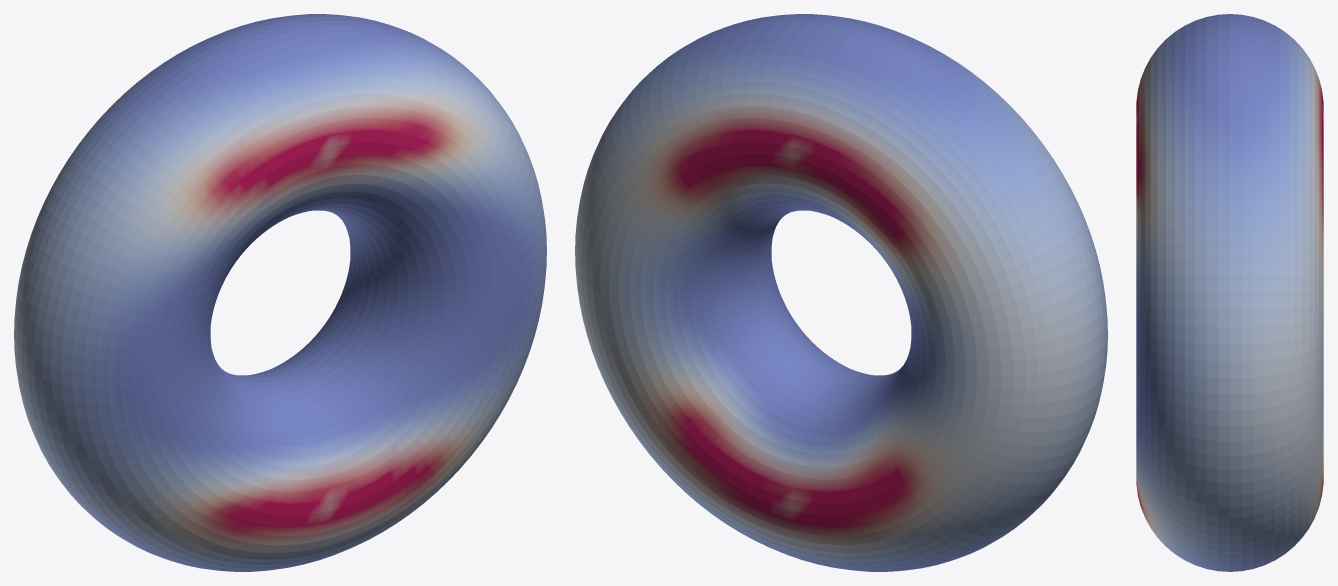
The picture shows the model from 3 angles, left to right: view 1: azimuth 30°, elevation 25°; view 2: azimuth 150°, elevation 25°; view 3: azimuth 270°, elevation 25°; orthographic projection. The views are drawn at different scales.
Visible parts, largest first — view 1: world; view 2: world; view 3: world.
Part boxes in pixels (x1,y1,x2,y2): world: (14, 14, 546, 571); world: (575, 14, 1107, 571); world: (1136, 14, 1323, 571).
Bounding box in the file's own units: 17.07 × 17.07 × 5.72.
